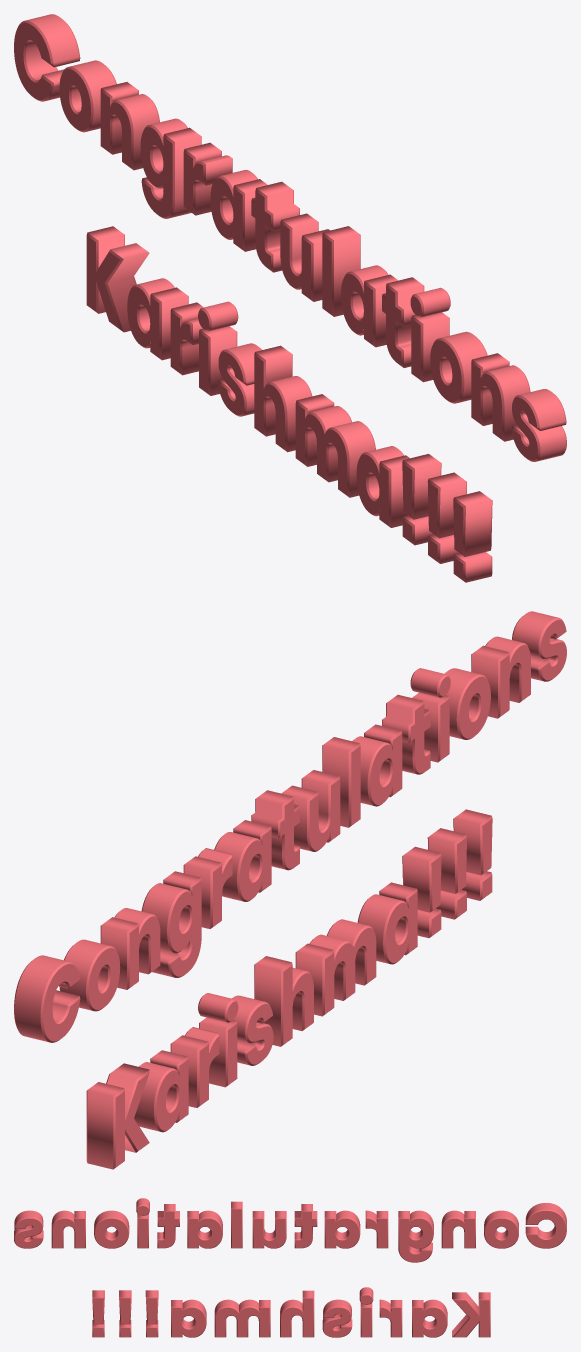
File: wishes3.gltf
3 views of the same model, one above another, from view 1: azimuth 30°, elevation 25°; view 2: azimuth 150°, elevation 25°; view 3: azimuth 270°, elevation 25° (orthographic). The views are drawn at different scales.
Parts seen in each view (by area): view 1: Text.002; view 2: Text.002; view 3: Text.002.
Boxes of the visible parts, x1,y1,x2,y2 form: Text.002: (14,14,566,582); Text.002: (14,611,566,1169); Text.002: (14,1198,566,1337).
Bounding box in the file's own units: 0.18 × 1.49 × 5.63.
